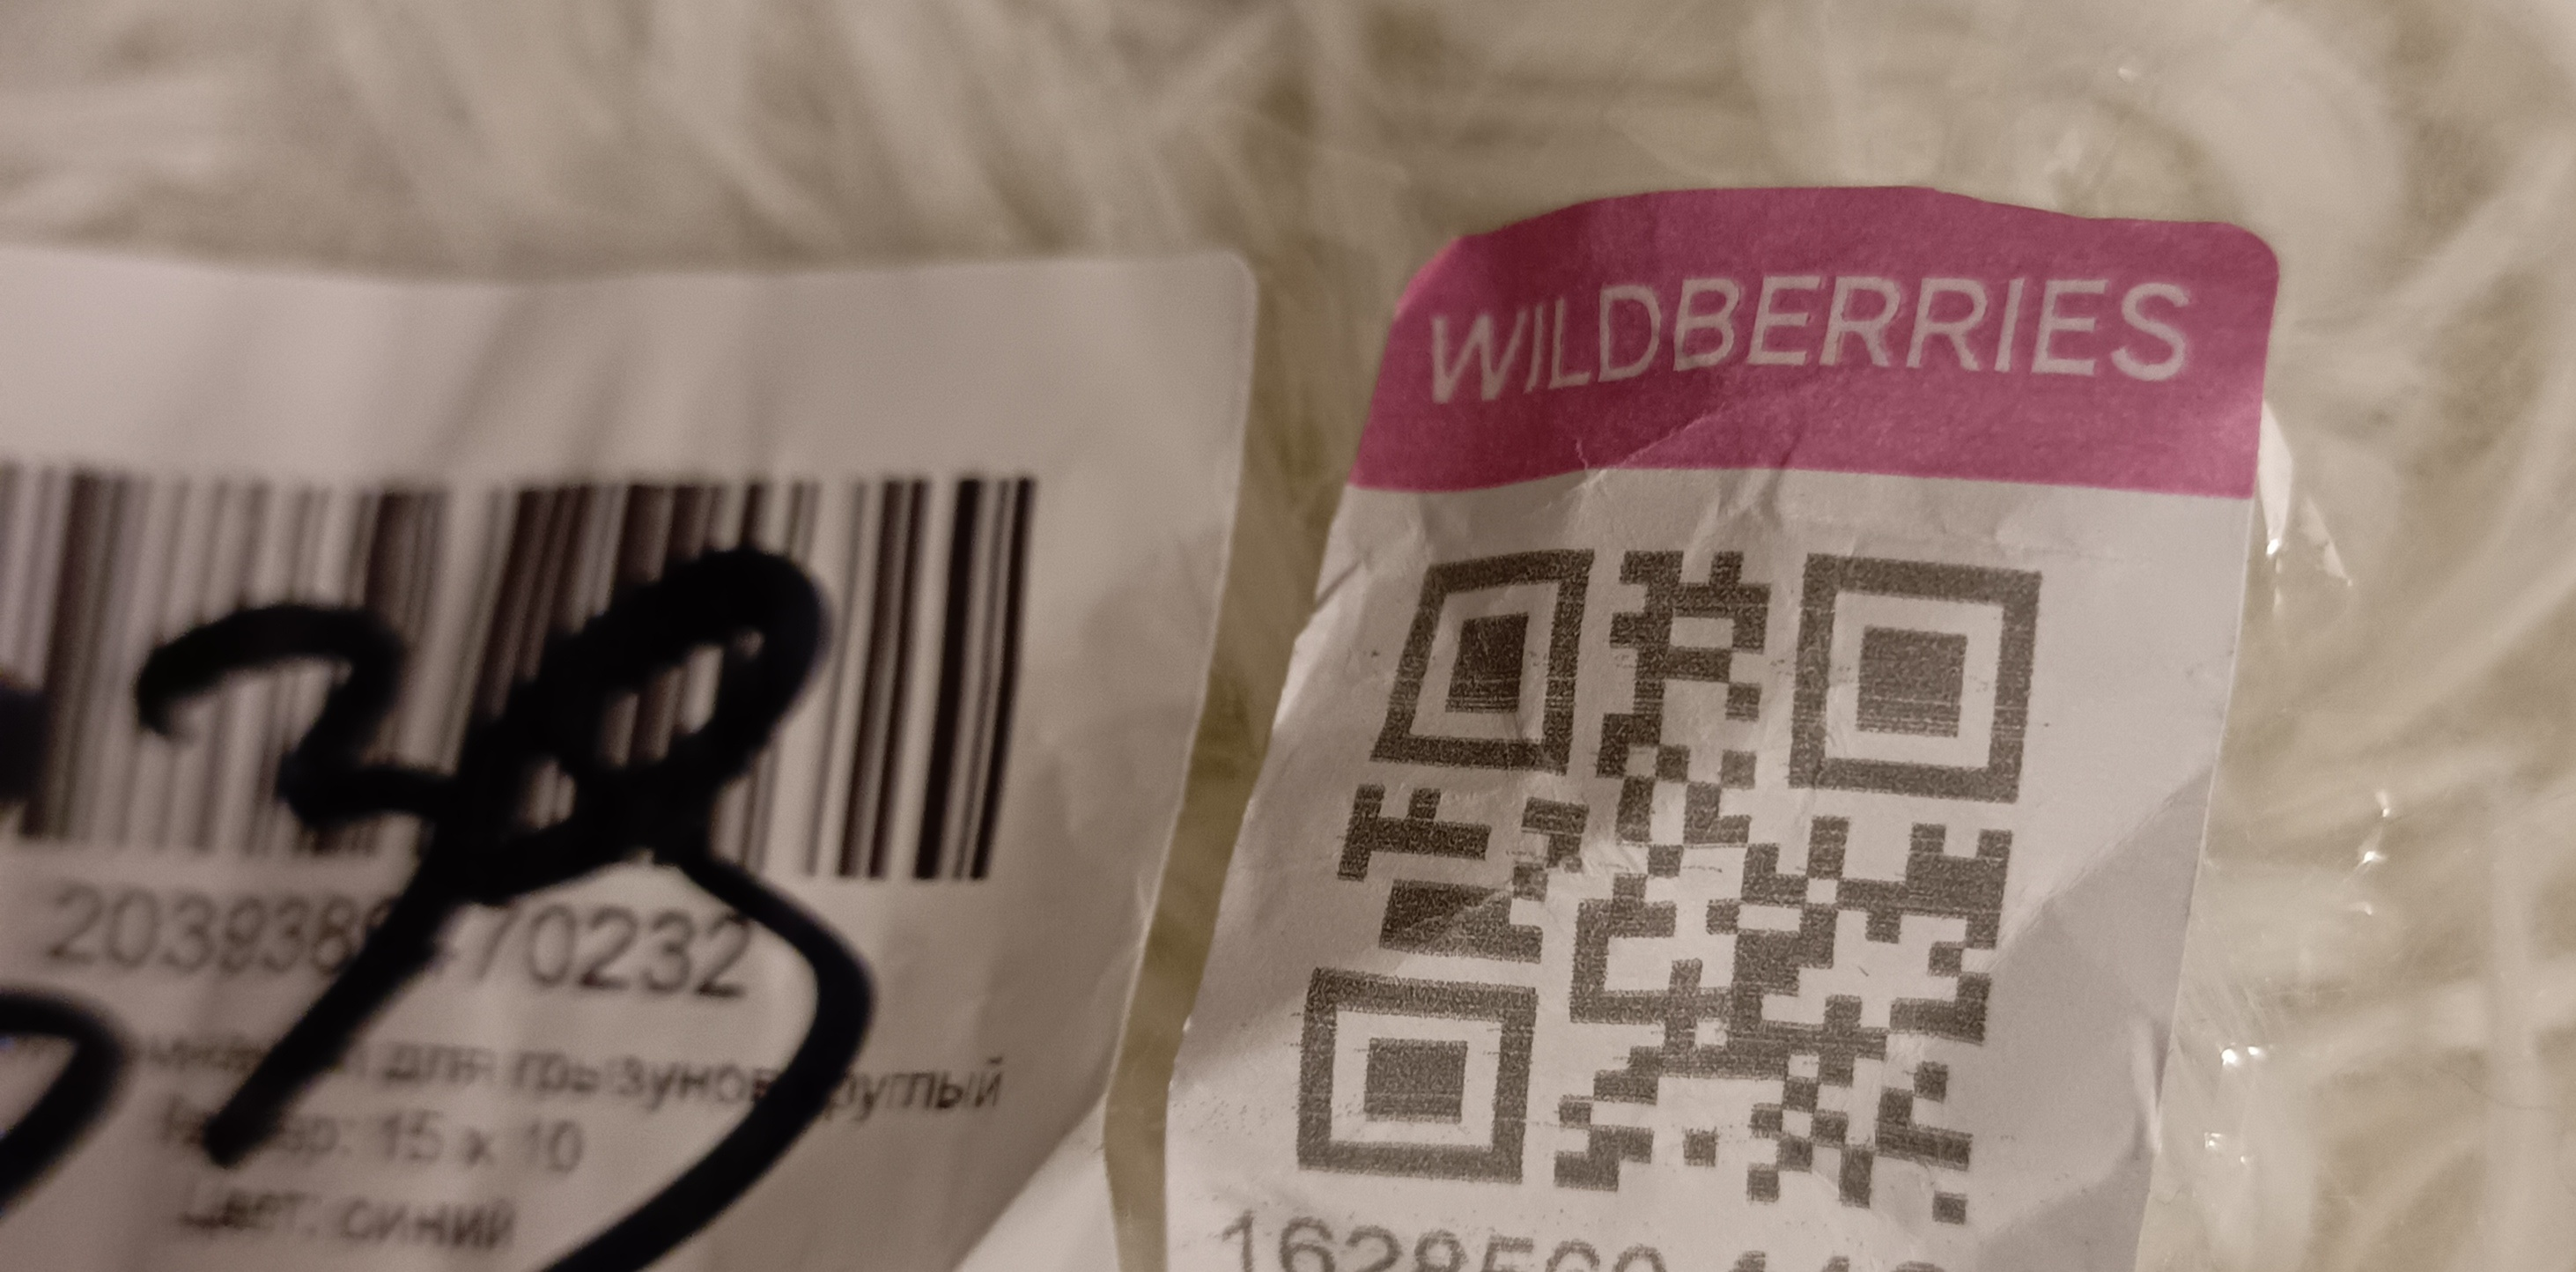1d: (3, 449, 1035, 889)
